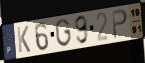2: (95, 11, 110, 44)
6: (33, 21, 50, 53)
9: (74, 14, 90, 46)
G: (54, 18, 73, 48)
K: (16, 25, 32, 54)
P: (111, 7, 129, 40)
